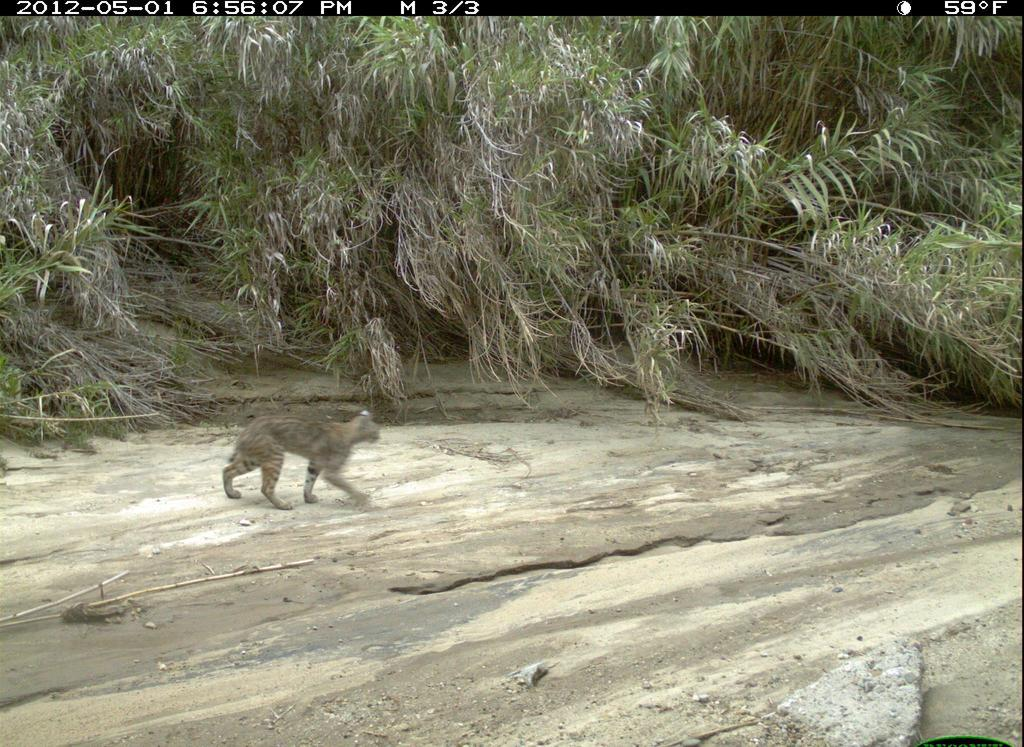bobcat: (212, 396, 391, 520)
